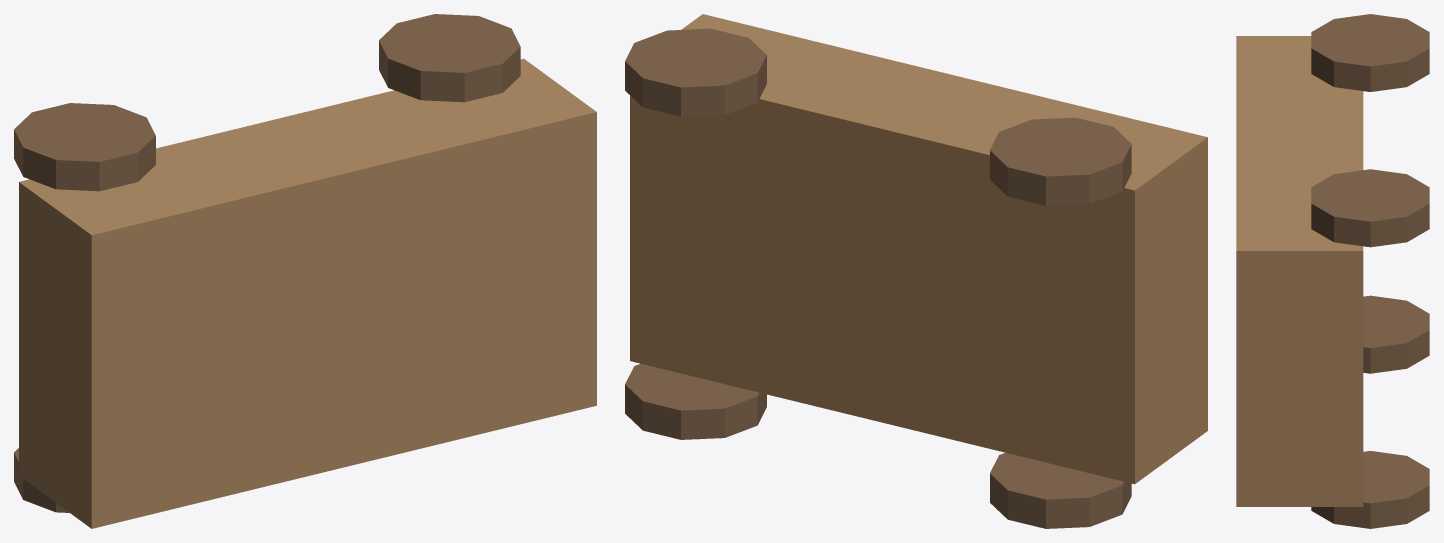
File: wooden_wagon.glb
3 views of the same model, side by side, from view 1: azimuth 30°, elevation 25°; view 2: azimuth 150°, elevation 25°; view 3: azimuth 270°, elevation 25° (orthographic). The views are drawn at different scales.
Parts seen in each view (by area): view 1: wagon_bed, wheel_r1, wheel_r2, wheel_l1; view 2: wagon_bed, wheel_r2, wheel_r1, wheel_l2, wheel_l1; view 3: wagon_bed, wheel_r2, wheel_r1, wheel_l2, wheel_l1.
Part boxes in pixels (left/top/right/bottom): wagon_bed: left=19, top=58, right=596, bottom=528; wheel_r1: left=14, top=103, right=155, bottom=191; wheel_r2: left=379, top=14, right=520, bottom=102; wheel_l1: left=14, top=448, right=69, bottom=512; wagon_bed: left=630, top=14, right=1207, bottom=484; wheel_r2: left=625, top=28, right=766, bottom=116; wheel_r1: left=990, top=117, right=1131, bottom=205; wheel_l2: left=625, top=363, right=766, bottom=439; wheel_l1: left=990, top=452, right=1131, bottom=528; wagon_bed: left=1236, top=36, right=1363, bottom=506; wheel_r2: left=1311, top=169, right=1429, bottom=247; wheel_r1: left=1311, top=14, right=1429, bottom=91; wheel_l2: left=1311, top=451, right=1429, bottom=528; wheel_l1: left=1363, top=295, right=1429, bottom=373.
Size of the model in its own units: 1.8 by 1.2 by 0.6842.
